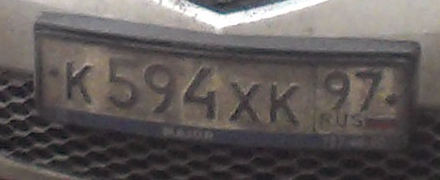character: (181, 61, 221, 125), (106, 52, 143, 113), (265, 78, 304, 133), (143, 59, 178, 115), (228, 78, 265, 129), (61, 57, 95, 110), (322, 64, 353, 114), (353, 64, 384, 114)
